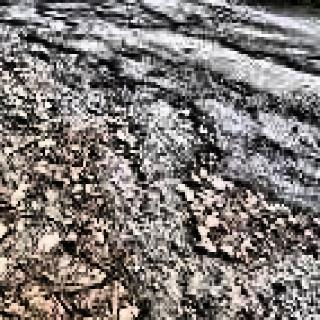pothole: (4, 126, 140, 317), (175, 143, 298, 259), (235, 37, 312, 97), (17, 27, 88, 75)
